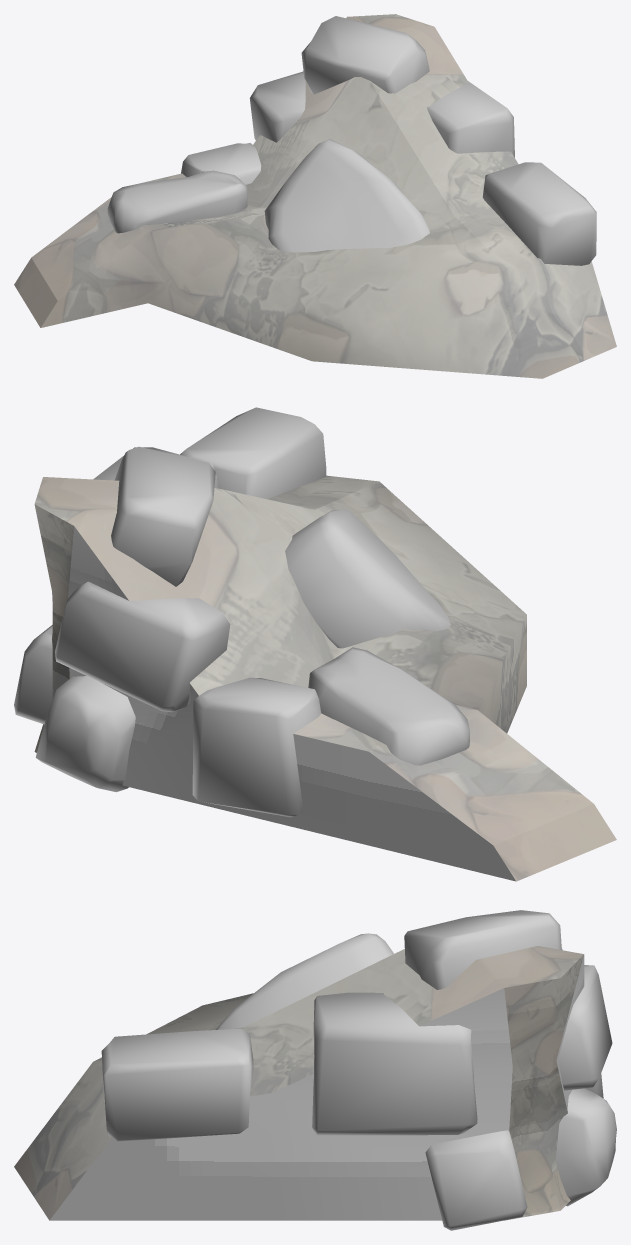
Rendered from SM_Ruins_01.fbx.
3 renders of one model, top to bottom at view 1: azimuth 30°, elevation 25°; view 2: azimuth 150°, elevation 25°; view 3: azimuth 270°, elevation 25°, orthographic. The views are drawn at different scales.
Parts seen in each view (by area): view 1: SM_Ruins_01_LOD0; view 2: SM_Ruins_01_LOD0; view 3: SM_Ruins_01_LOD0.
Part boxes in pixels (x1,y1,x2,y2): SM_Ruins_01_LOD0: (14,14,616,378); SM_Ruins_01_LOD0: (14,407,616,881); SM_Ruins_01_LOD0: (14,910,616,1230).
Size of the model in its own units: 316 by 305 by 152.
